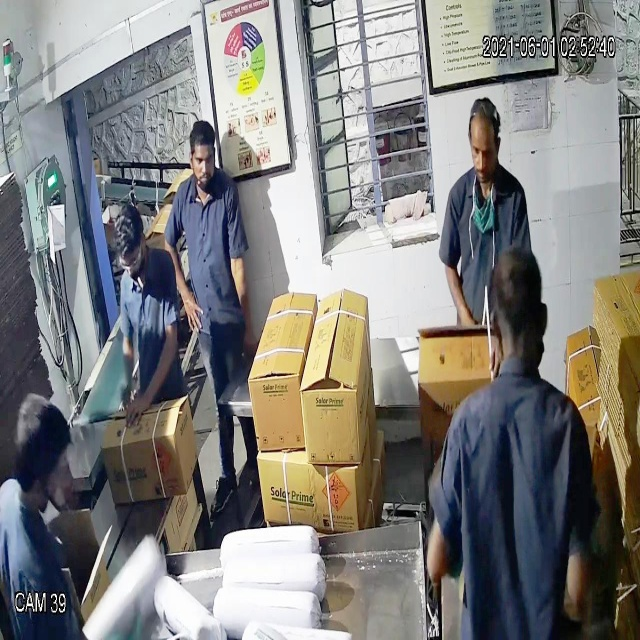Gafas: (116, 246, 148, 277)
Sin_gafas: (184, 140, 222, 174), (466, 132, 503, 166)
